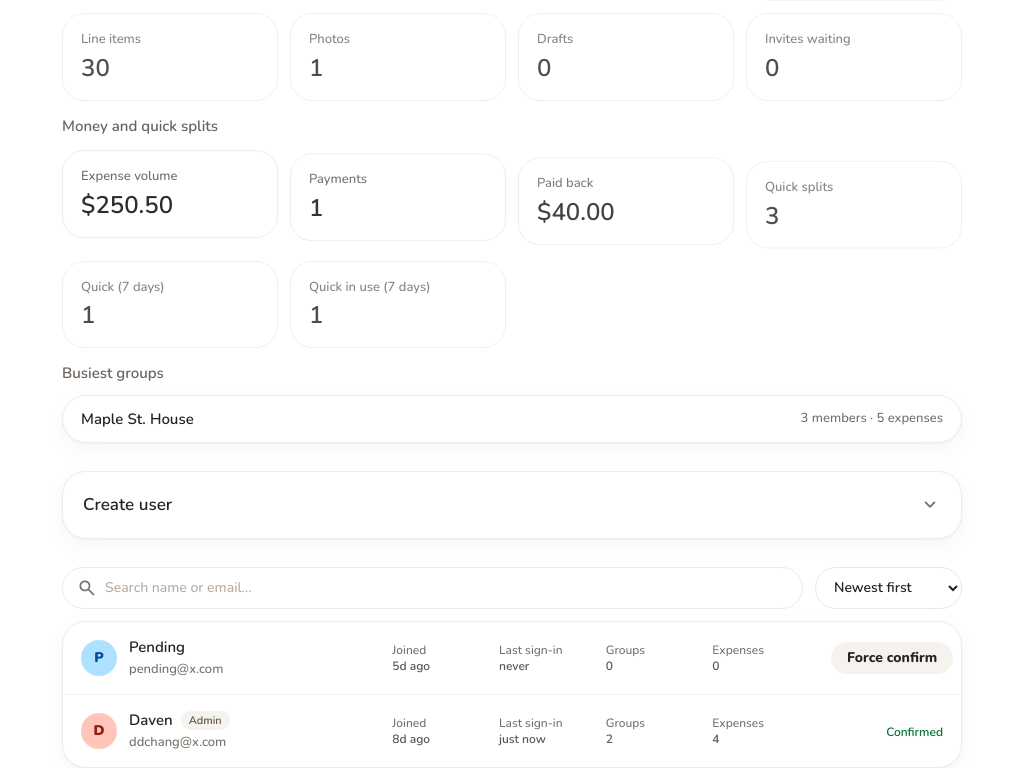
it: Admin › create-user form expands, force creates, and shows the credentials once
(page scrolled)
Check: the text "Daven" is shown, box x1=129 y1=710 x2=173 y2=730
Click the button "Create user".
click(128, 504)  # box x1=63 y1=472 x2=961 y2=538
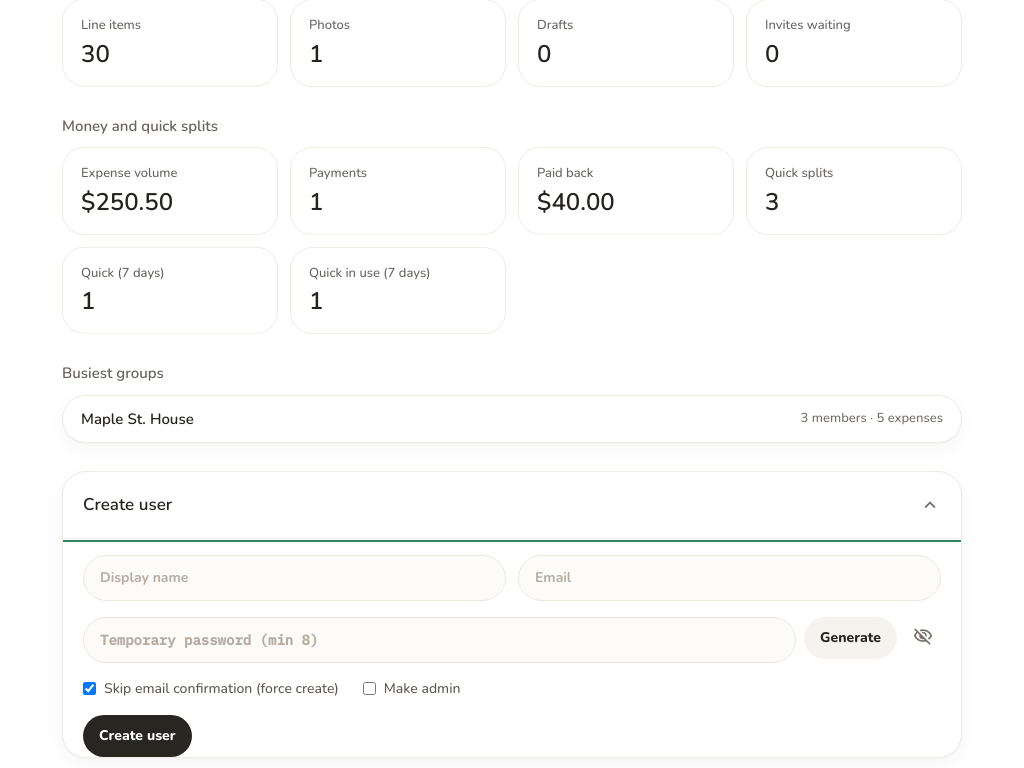
Type "New" into the field with placeholder "Display name".
click(294, 578); type("New")  # box x1=83 y1=554 x2=506 y2=600
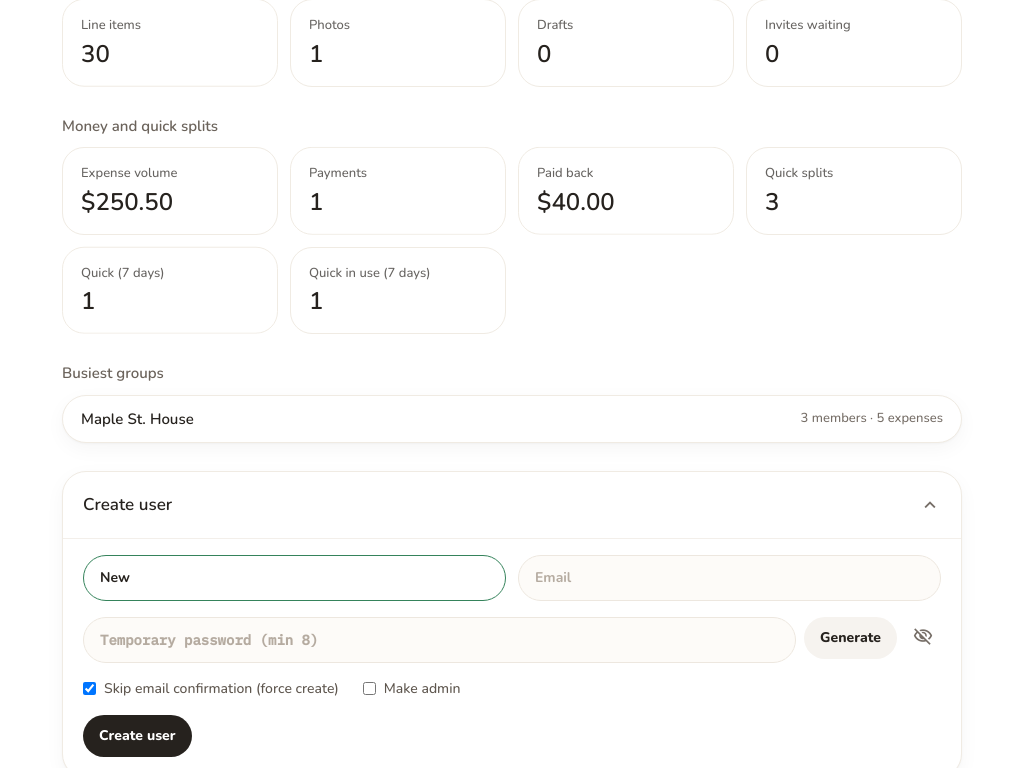
Type "new@x.com" into the field with placeholder "Email".
click(730, 578); type("new@x.com")  # box x1=518 y1=554 x2=941 y2=600
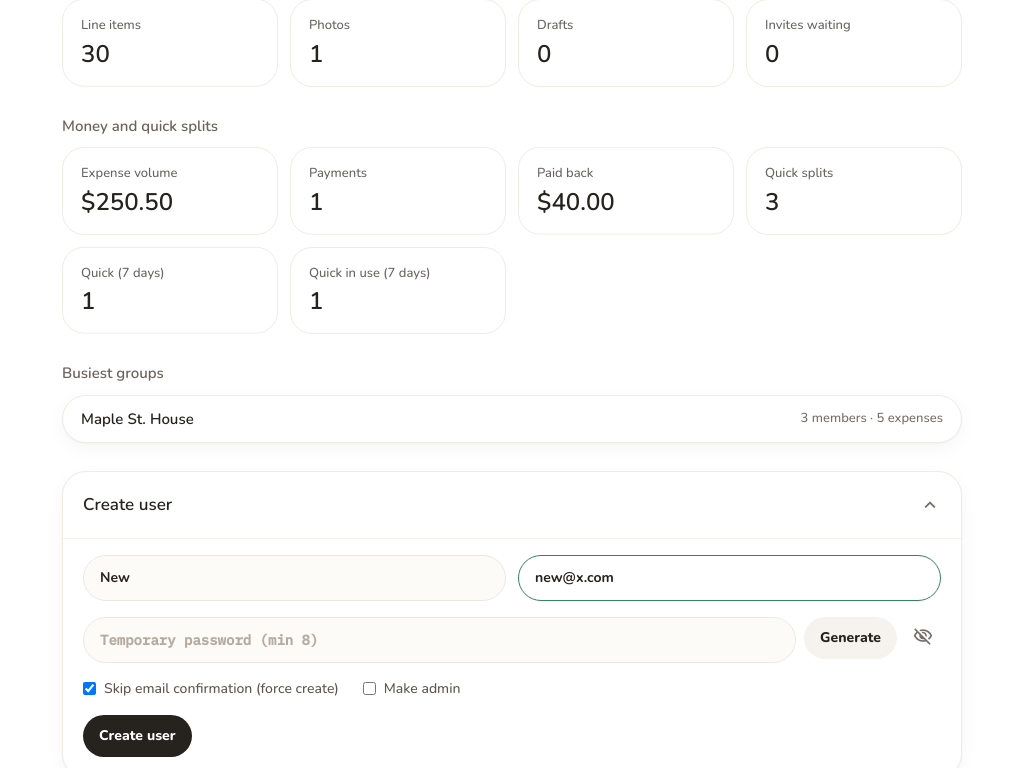
Click the button "Generate".
click(851, 638)  # box x1=804 y1=616 x2=897 y2=658
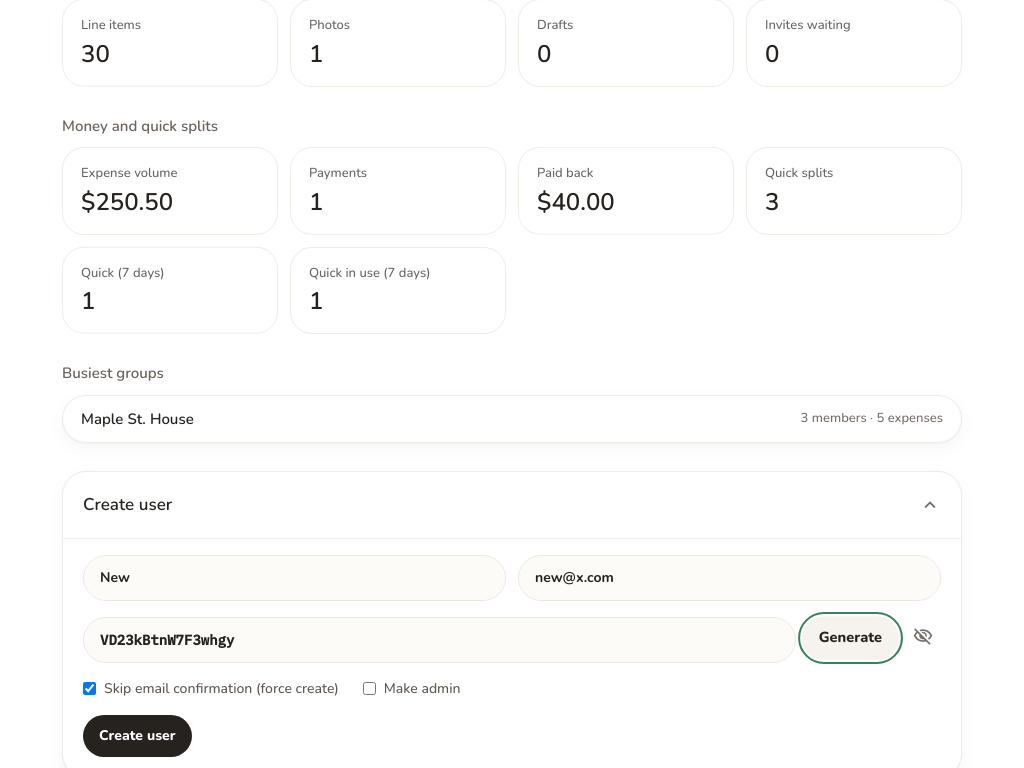
Click the button "Create user" below "Skip email confirmation (force create)".
click(137, 736)  # box x1=83 y1=714 x2=192 y2=756
(page scrolled)
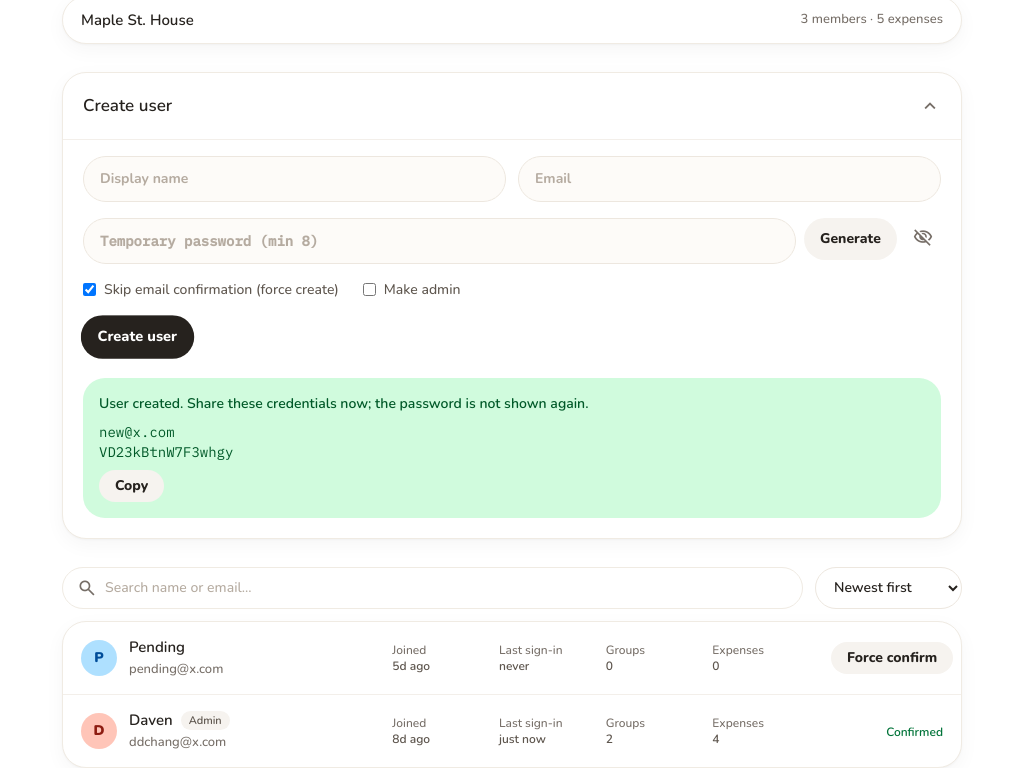
Check: the text "User created" is shown, box x1=99 y1=394 x2=588 y2=412
